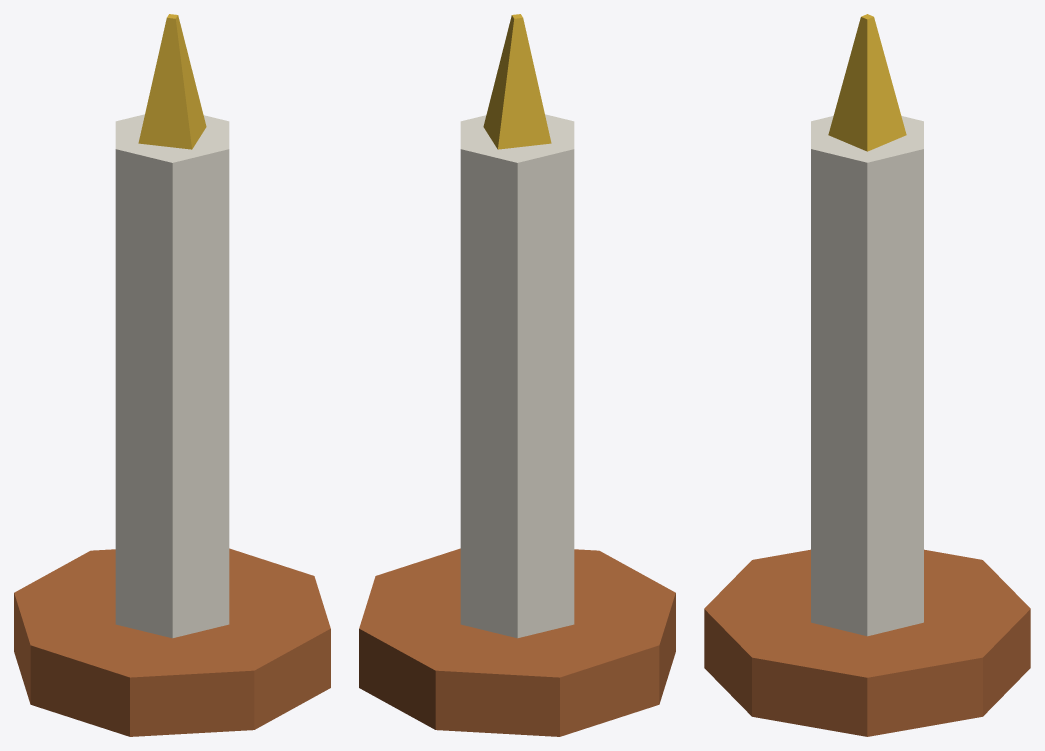
Rendered from GD_Candle_01.glb.
3 views of the same model, side by side, from view 1: azimuth 30°, elevation 25°; view 2: azimuth 150°, elevation 25°; view 3: azimuth 270°, elevation 25° (orthographic).
Parts seen in each view (by area): view 1: GD_Candle_01; view 2: GD_Candle_01; view 3: GD_Candle_01.
Boxes of the visible parts, box(x1,y1,x2,y2) form: GD_Candle_01: box(14, 14, 330, 736); GD_Candle_01: box(359, 14, 675, 736); GD_Candle_01: box(704, 14, 1030, 736).
Bounding box in the file's own units: 0.1 × 0.22 × 0.1.
1 material, 1 textured.
